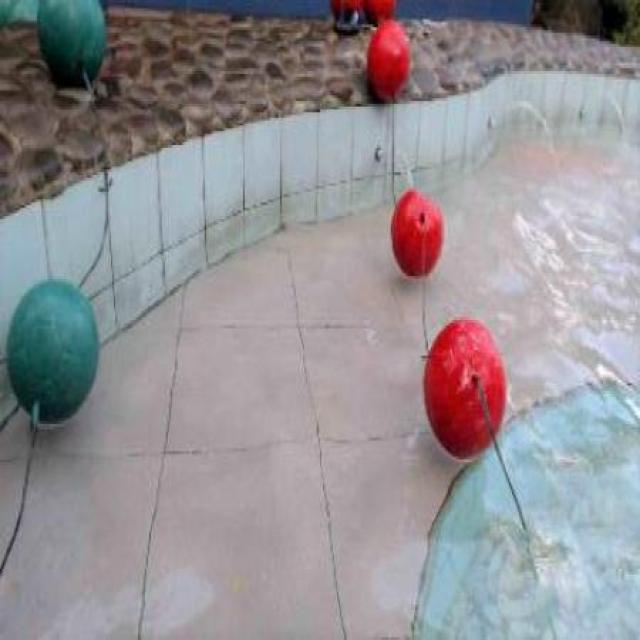buoy: (5, 276, 100, 424), (422, 319, 504, 458), (35, 0, 108, 85), (390, 186, 443, 273), (366, 20, 409, 94)
